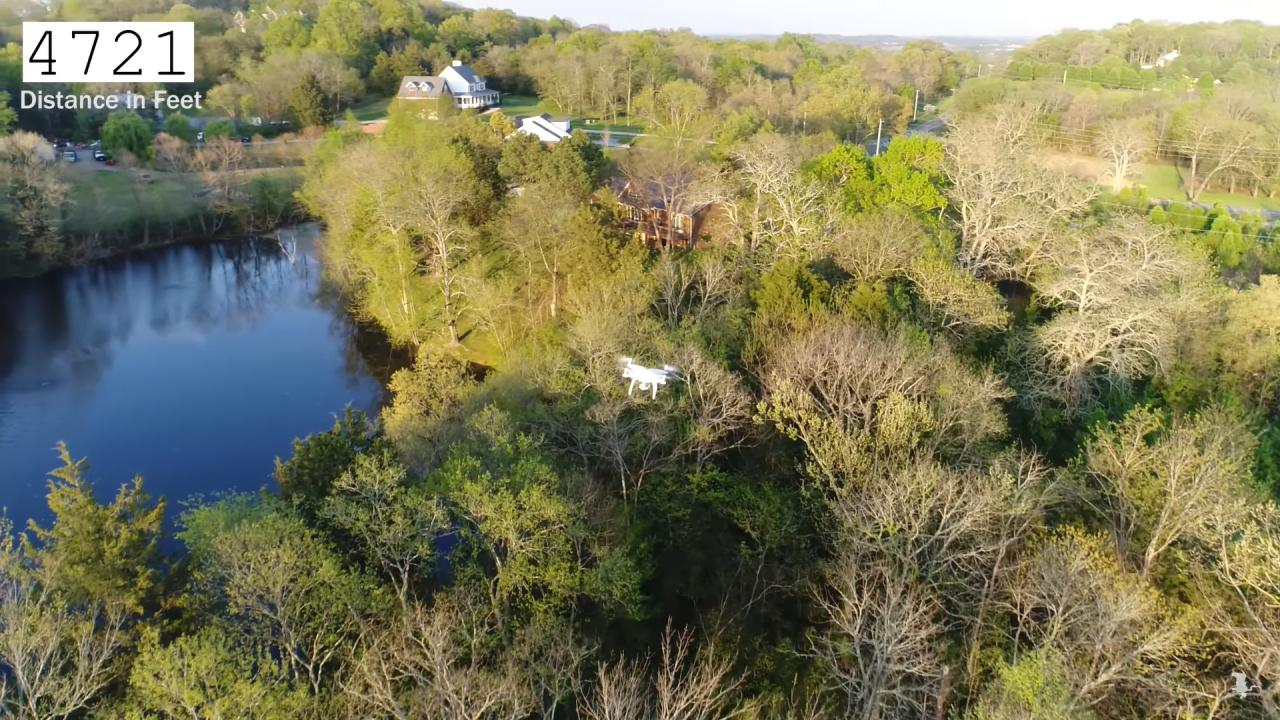Drone: (604, 344, 690, 409)
